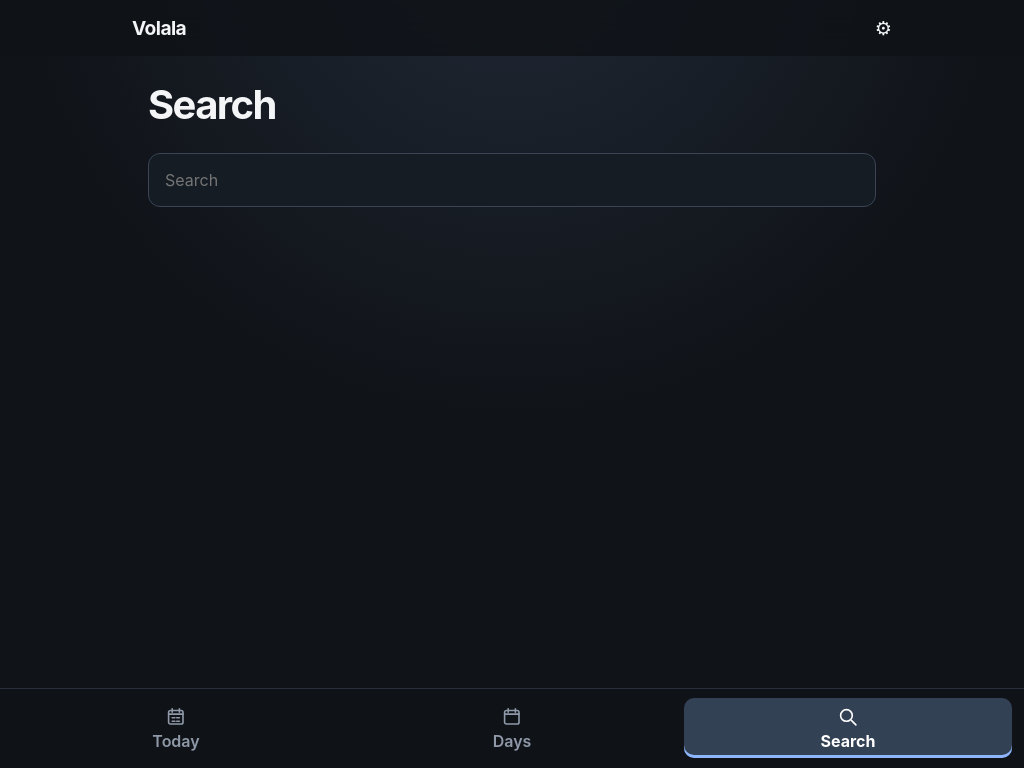
Test: Phase 3 itinerary selection › searches location title, primary and secondary descriptions in stable day order
Type "ALPHA PLACE" into the field at (512,180), box [148, 153, 876, 207]
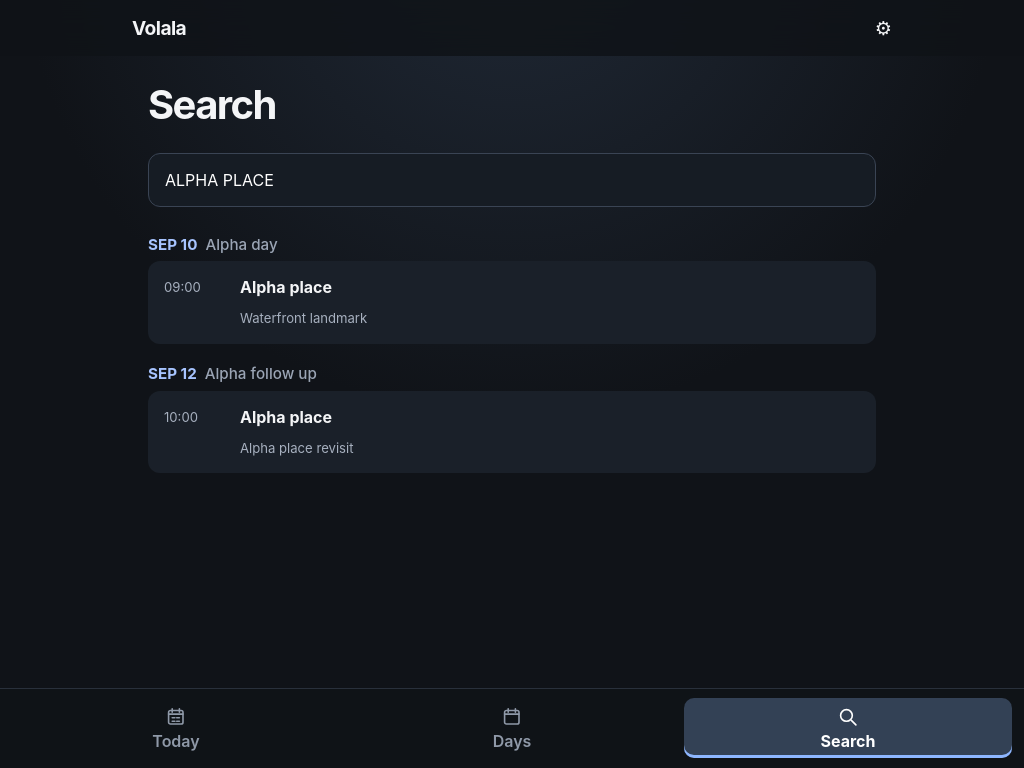
Check: the number of links "09:00 Alpha place Waterfront landmark" is 2, box [148, 261, 876, 344]; [148, 390, 876, 473]
Replace the text in the field with "waterfront" at (512,180), box [148, 153, 876, 207]
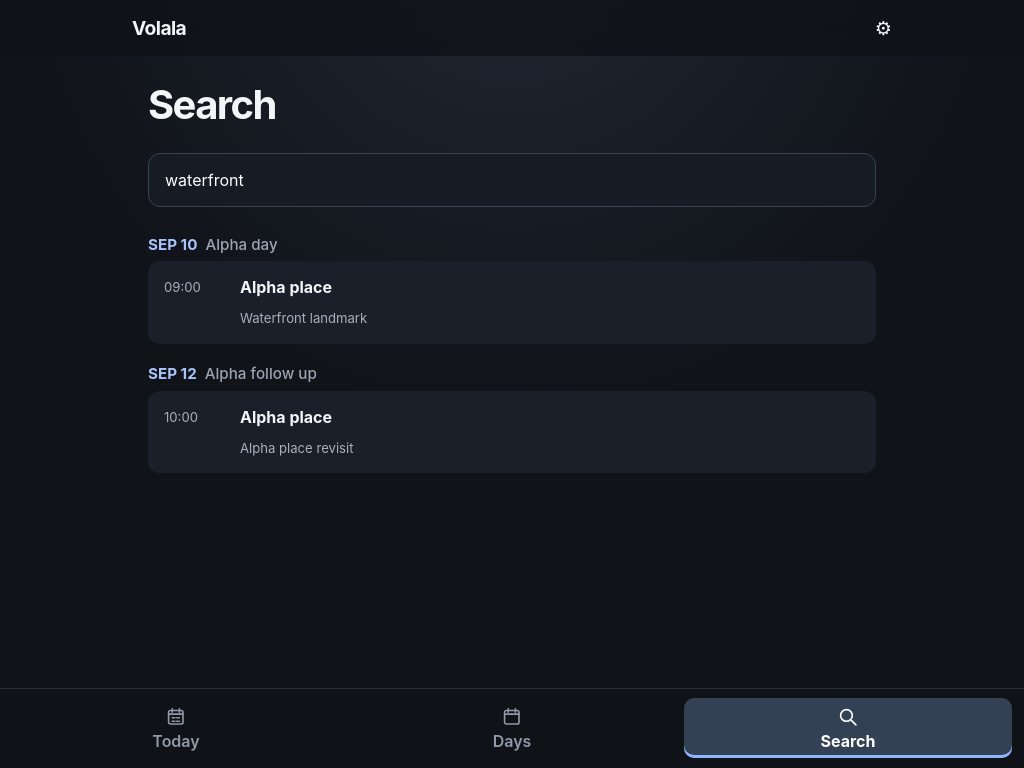
Check: the number of links "09:00 Alpha place Waterfront landmark" is 2, box [148, 261, 876, 344]; [148, 390, 876, 473]
Replace the text in the field with "SECONDARY DETAIL" at (512,180), box [148, 153, 876, 207]
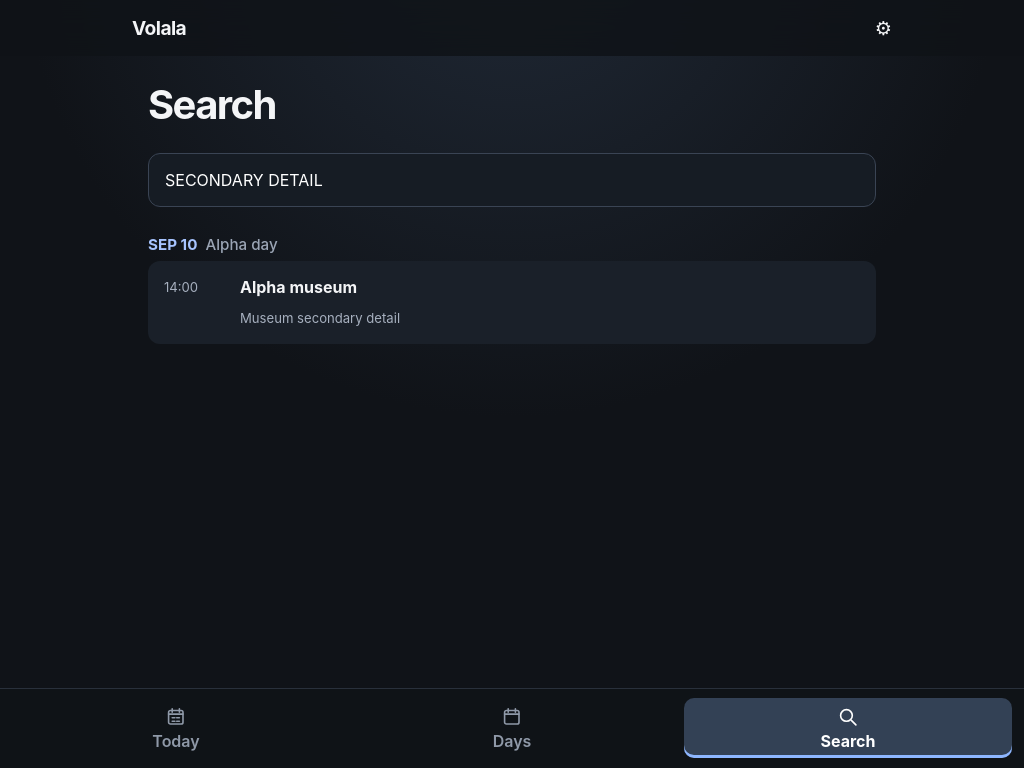
Check: the link "14:00 Alpha museum Museum secondary detail" is shown, box [148, 261, 876, 344]
